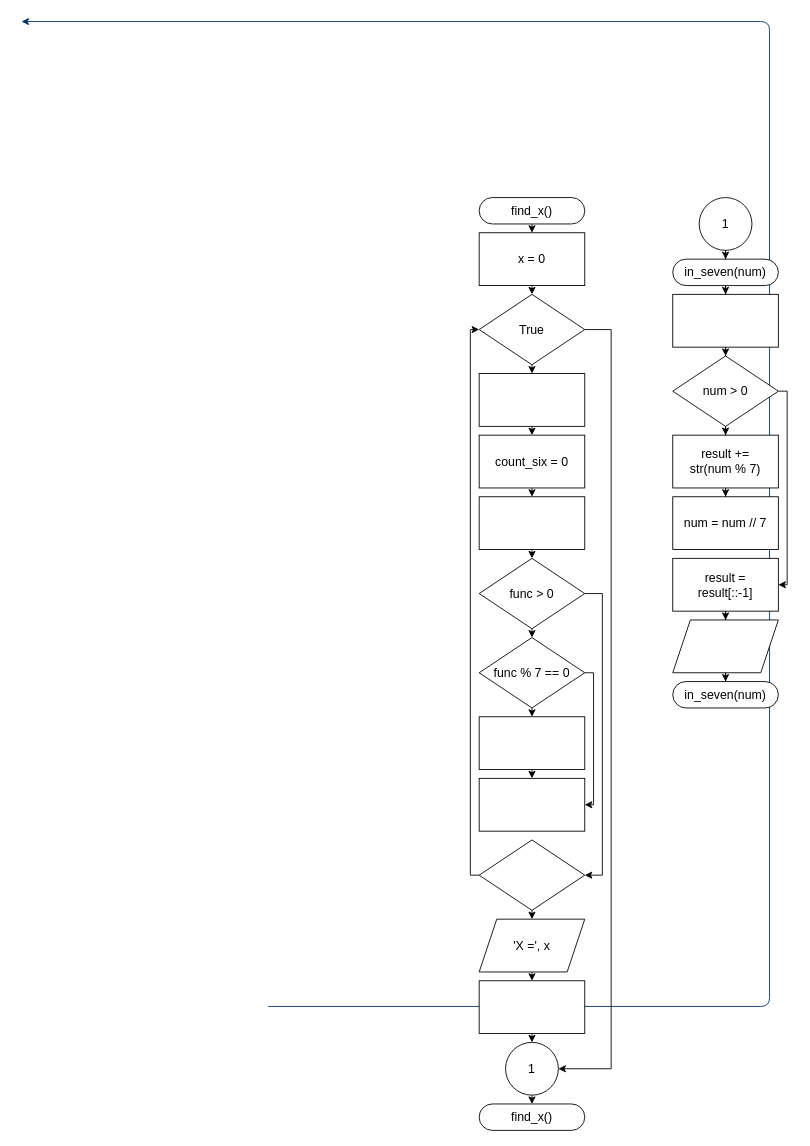
The diagram is 810 pixels wide and 1146 high, and some of its shapes have lost their labels. The shapes that lost their labels are listed below. From the top down, each one's centre as x and y in pixels, then its label:
[725,320]: result = ''
[531,399]: x += 1
[531,523]: func = 343**5 + 7**3 - 1 - x
[725,646]: result
[531,743]: count_six += 1
[531,804]: func = func // 7
[531,874]: count_six == 12
[531,1007]: break
